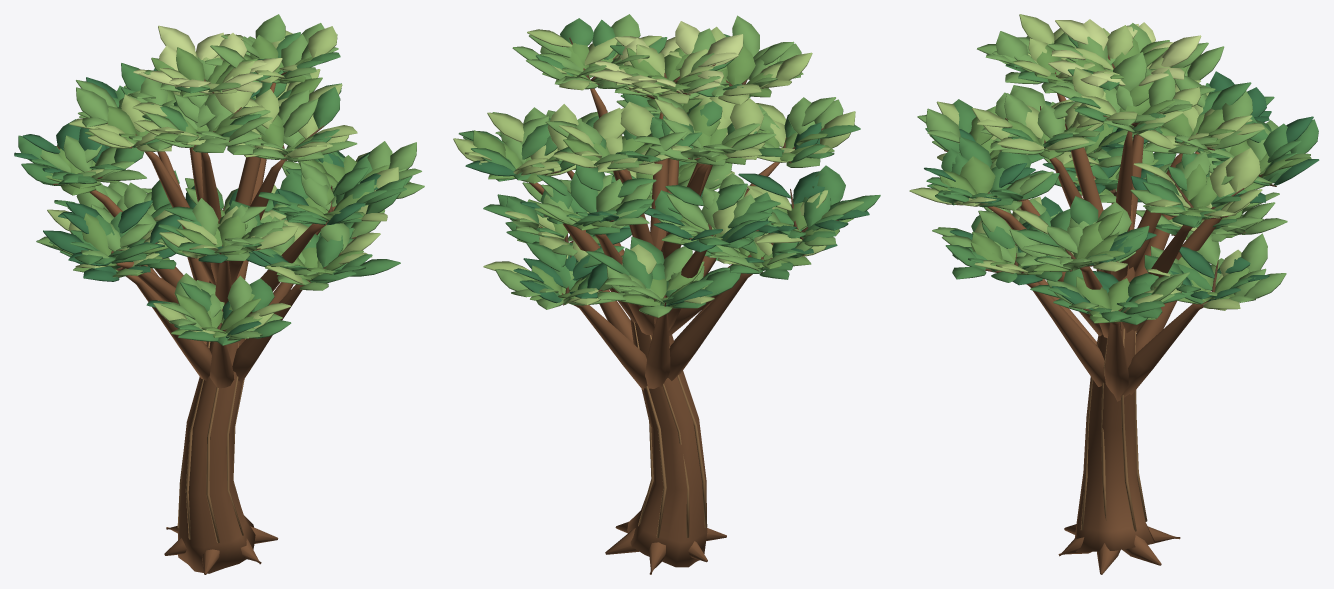
File: mission_tree_mature.glb
3 views of the same model, side by side, from view 1: azimuth 30°, elevation 25°; view 2: azimuth 150°, elevation 25°; view 3: azimuth 270°, elevation 25° (orthographic).
Parts seen in each view (by area): view 1: Crown Leaf meadow, Heartwood, Crown Leaf fern, Crown Leaf sunlight, Crown Leaf weather, Crown Leaf forest, Crown Leaf new tips, Bark ridges; view 2: Heartwood, Crown Leaf meadow, Crown Leaf fern, Crown Leaf sunlight, Crown Leaf weather, Crown Leaf forest, Crown Leaf new tips, Bark ridges, Bark shade; view 3: Crown Leaf meadow, Heartwood, Crown Leaf fern, Crown Leaf sunlight, Crown Leaf weather, Crown Leaf forest, Crown Leaf new tips, Bark ridges, Bark shade.
Part boxes in pixels (x1=…): Crown Leaf meadow: x1=37, y1=14, x2=424, y2=340; Heartwood: x1=89, y1=83, x2=335, y2=574; Crown Leaf fern: x1=18, y1=32, x2=412, y2=345; Crown Leaf sunlight: x1=47, y1=26, x2=399, y2=333; Crown Leaf weather: x1=45, y1=35, x2=411, y2=337; Crown Leaf forest: x1=14, y1=68, x2=380, y2=338; Crown Leaf new tips: x1=133, y1=25, x2=282, y2=93; Bark ridges: x1=177, y1=338, x2=245, y2=543; Heartwood: x1=529, y1=88, x2=779, y2=574; Crown Leaf meadow: x1=492, y1=14, x2=863, y2=317; Crown Leaf fern: x1=458, y1=18, x2=880, y2=308; Crown Leaf sunlight: x1=453, y1=26, x2=855, y2=304; Crown Leaf weather: x1=473, y1=43, x2=853, y2=307; Crown Leaf forest: x1=465, y1=114, x2=869, y2=306; Crown Leaf new tips: x1=589, y1=21, x2=743, y2=94; Bark ridges: x1=634, y1=322, x2=707, y2=537; Bark shade: x1=539, y1=37, x2=838, y2=308; Crown Leaf meadow: x1=917, y1=23, x2=1310, y2=309; Heartwood: x1=987, y1=93, x2=1222, y2=574; Crown Leaf fern: x1=925, y1=36, x2=1318, y2=324; Crown Leaf sunlight: x1=909, y1=14, x2=1264, y2=311; Crown Leaf weather: x1=932, y1=37, x2=1311, y2=323; Crown Leaf forest: x1=924, y1=71, x2=1319, y2=309; Crown Leaf new tips: x1=1048, y1=19, x2=1201, y2=86; Bark ridges: x1=1080, y1=328, x2=1147, y2=531; Bark shade: x1=944, y1=55, x2=1276, y2=312.
Size of the model in its own units: 2.58 by 3.46 by 2.5.
